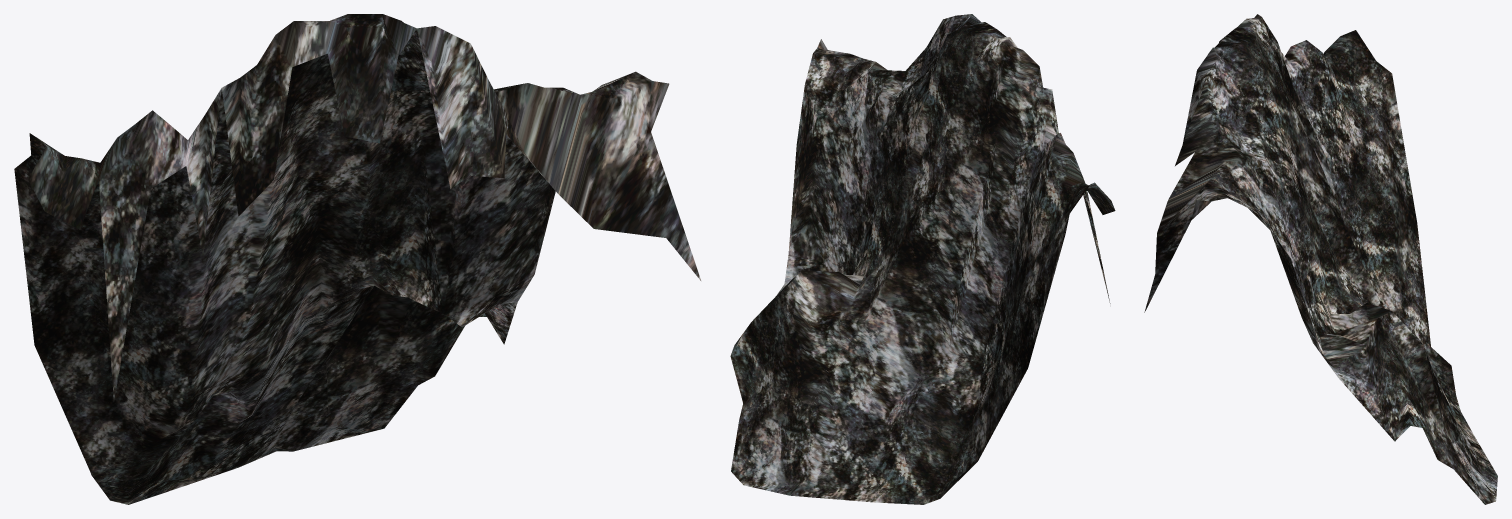
The model's file is OVERHILL_A_01_MOUN1_OBJECT156.fbx.
The picture shows the model from 3 angles, left to right: view 1: azimuth 30°, elevation 25°; view 2: azimuth 150°, elevation 25°; view 3: azimuth 270°, elevation 25°; orthographic projection. The views are drawn at different scales.
Parts seen in each view (by area): view 1: OVERHILL_A_01_MOUN1_OBJECT156; view 2: OVERHILL_A_01_MOUN1_OBJECT156; view 3: OVERHILL_A_01_MOUN1_OBJECT156.
Part boxes in pixels (x1,y1,x2,y2): OVERHILL_A_01_MOUN1_OBJECT156: [14, 14, 700, 504]; OVERHILL_A_01_MOUN1_OBJECT156: [730, 14, 1115, 504]; OVERHILL_A_01_MOUN1_OBJECT156: [1144, 14, 1497, 504].
Size of the model in its own units: 325757 by 344030 by 269840.
Materials: 1 (1 with a texture image).
